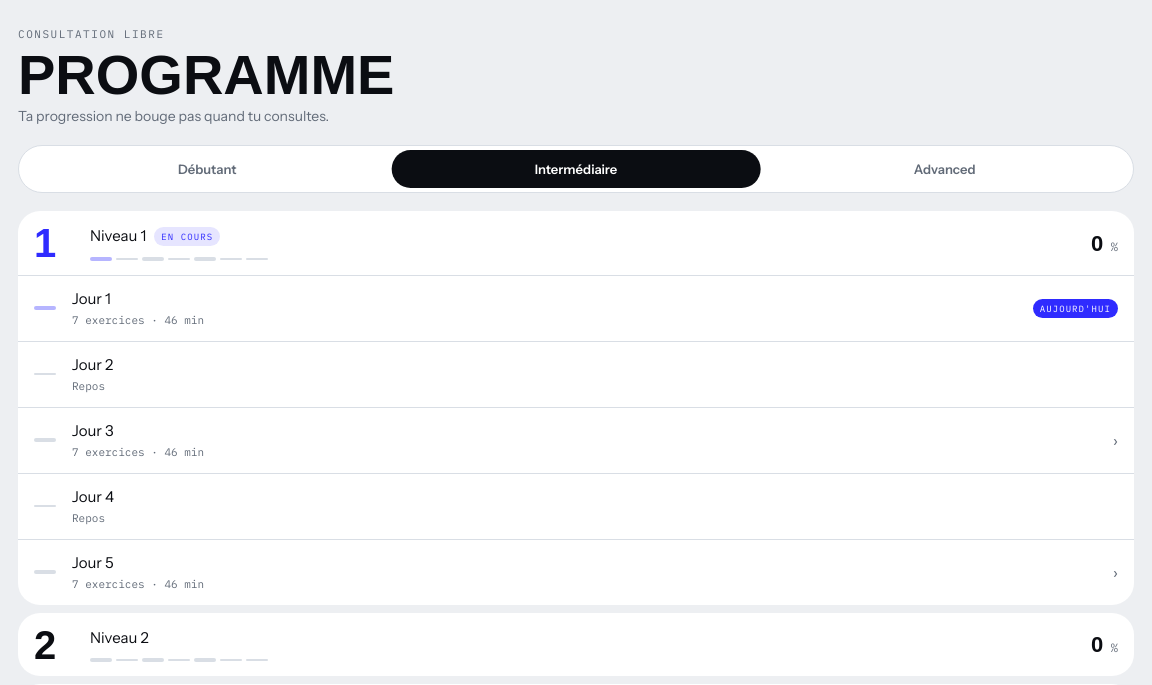
Test: ProgrammeScreen › shows no En cours on a parcours other than the current one
Click the button "Débutant" at (207, 169), box [23,150,392,188]
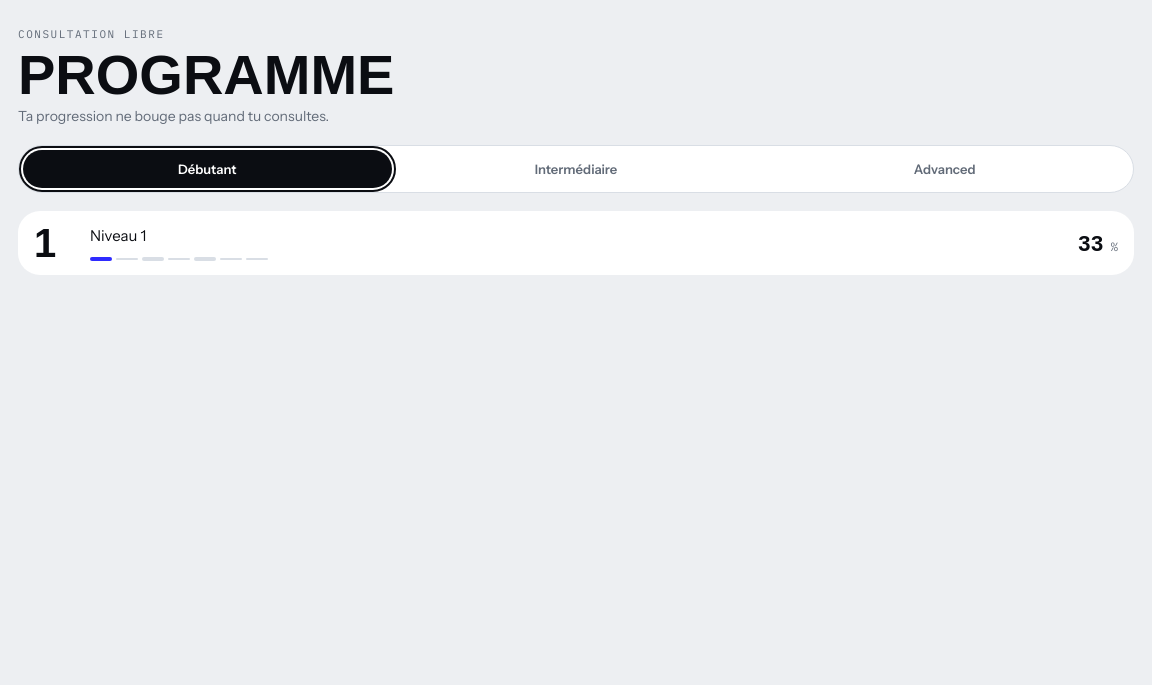
expect the text "En cours" is gone: met
